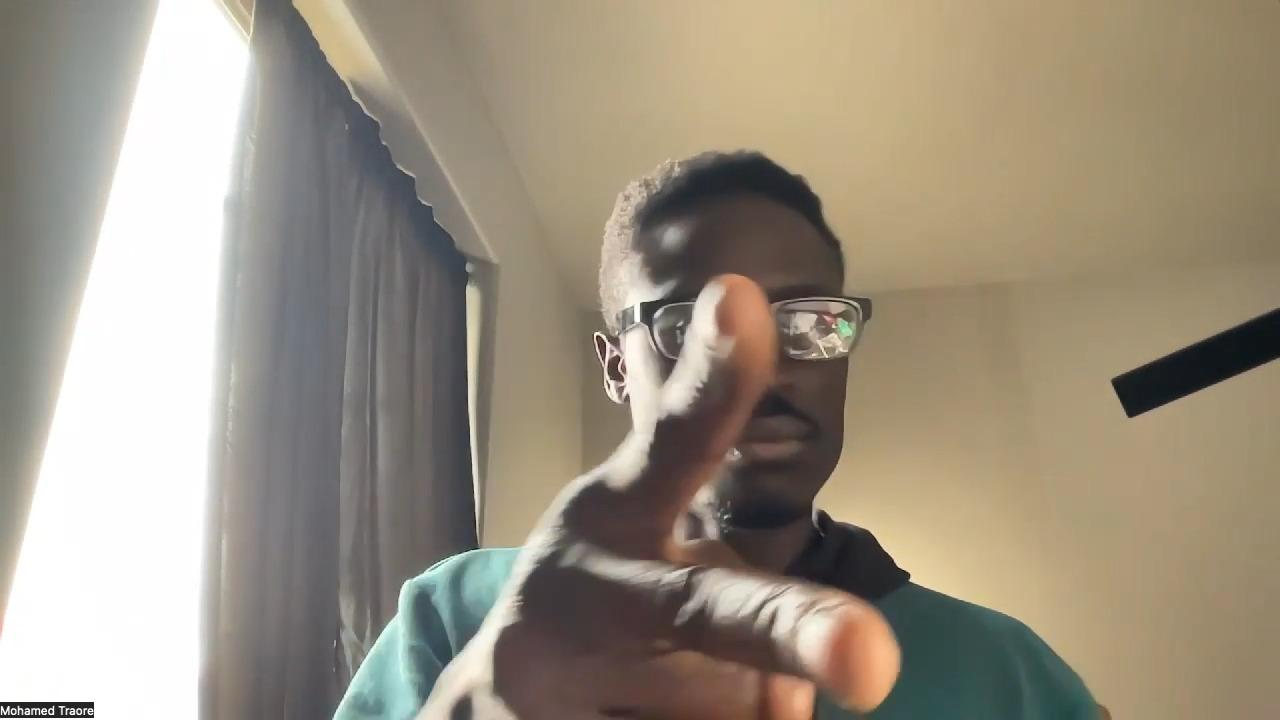Scissors: (427, 273, 901, 720)
